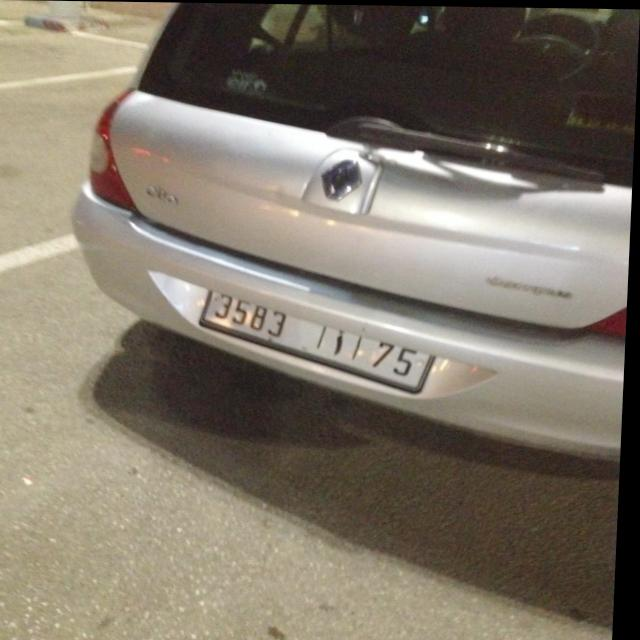License-Plate: (204, 290, 436, 390)
